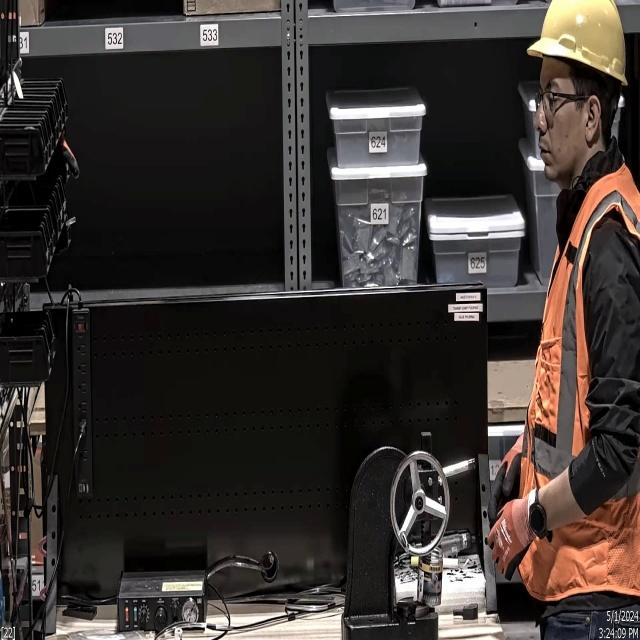gloves: (466, 496, 542, 582), (484, 432, 526, 526)
